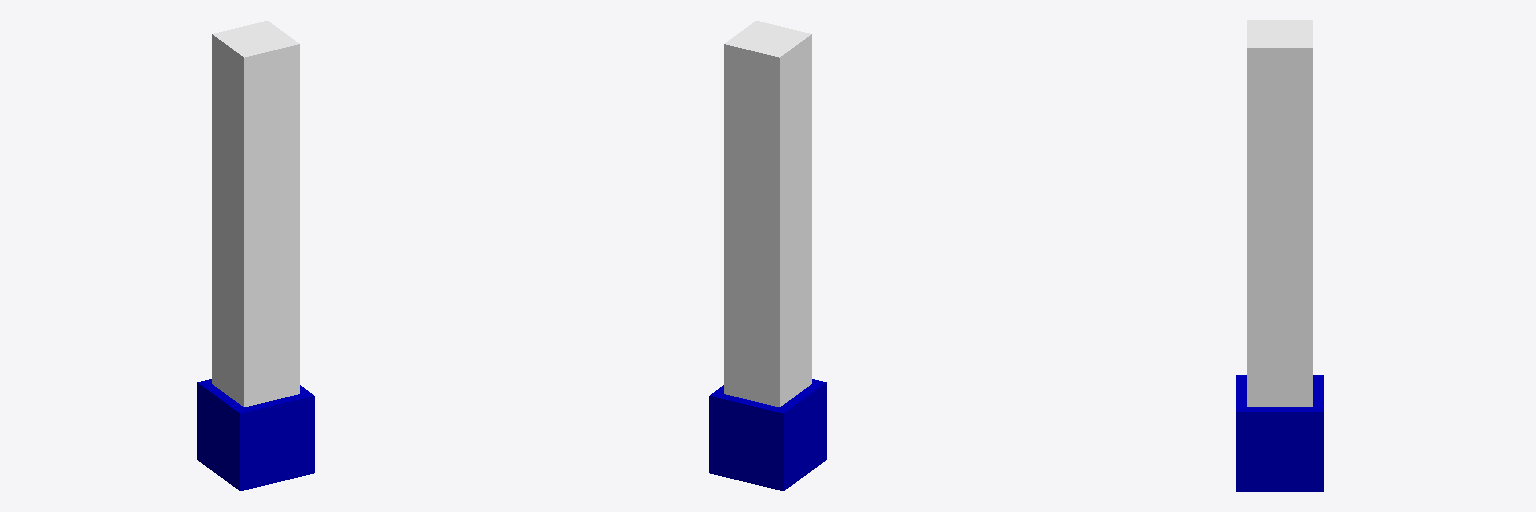
robot.urdf — pendulum:
<?xml version="0.0"?>
<robot name="pendulum">

  <link name="base">
    <visual>
      <geometry>
        <box size="0.2 0.2 0.2"/>
      </geometry>
      <origin xyz="0 0 0"/>
      <material name="blue">
        <color rgba="0 0 .8 1"/>
      </material>
    </visual>
    <inertial>
      <mass value="0"/>
      <inertia ixx="1.0" ixy="0.0" ixz="0.0" iyy="1.0" iyz="0.0" izz="1.0"/>
    </inertial>
  </link>

  <link name="pole">
    <visual>
      <geometry>
        <box size="0.15 0.15 1.0"/>	
      </geometry>
      <origin rpy="0 0 0" xyz="0 0 0.5"/>
      <material name="white">
        <color rgba="1 1 1 1"/>
      </material>
    </visual>
    <inertial>
    <origin xyz="0 0 0.5"/>
      <mass value="1."/>
      <inertia ixx="0.333" ixy="0.0" ixz="0.0"
               iyy="0.333" iyz="0.0" izz="0.01125"/>
    </inertial>
  </link>

  <joint name="base_to_pole" type="continuous">
    <axis xyz="0 1 0"/>
    <origin xyz="0.0 0.0 0"/>
    <parent link="base"/>
    <child link="pole"/>
    <dynamics damping=".5"/>
  </joint>

</robot>

--- What the picture shows (computed from the rendered views, not written in the file) ---
The picture shows the robot from 3 angles, left to right: view 1: azimuth 30°, elevation 25°; view 2: azimuth 150°, elevation 25°; view 3: azimuth 270°, elevation 25°; orthographic projection.
Model pendulum with 2 links and 1 joints (1 continuous), rooted at base, posed all joints at 0.
Visible links, largest first — view 1: pole, base; view 2: pole, base; view 3: pole, base.
Boxes of the visible links, box(x1,y1,x2,y2) form: pole: box(212, 21, 299, 406); base: box(197, 379, 314, 490); pole: box(724, 21, 811, 406); base: box(709, 379, 826, 490); pole: box(1247, 20, 1312, 406); base: box(1236, 375, 1323, 491).
Bounding box of the posed robot: 0.2 × 0.2 × 1.1 m (x, y, z).
Geometry: primitives only (box / cylinder / sphere), no mesh files.